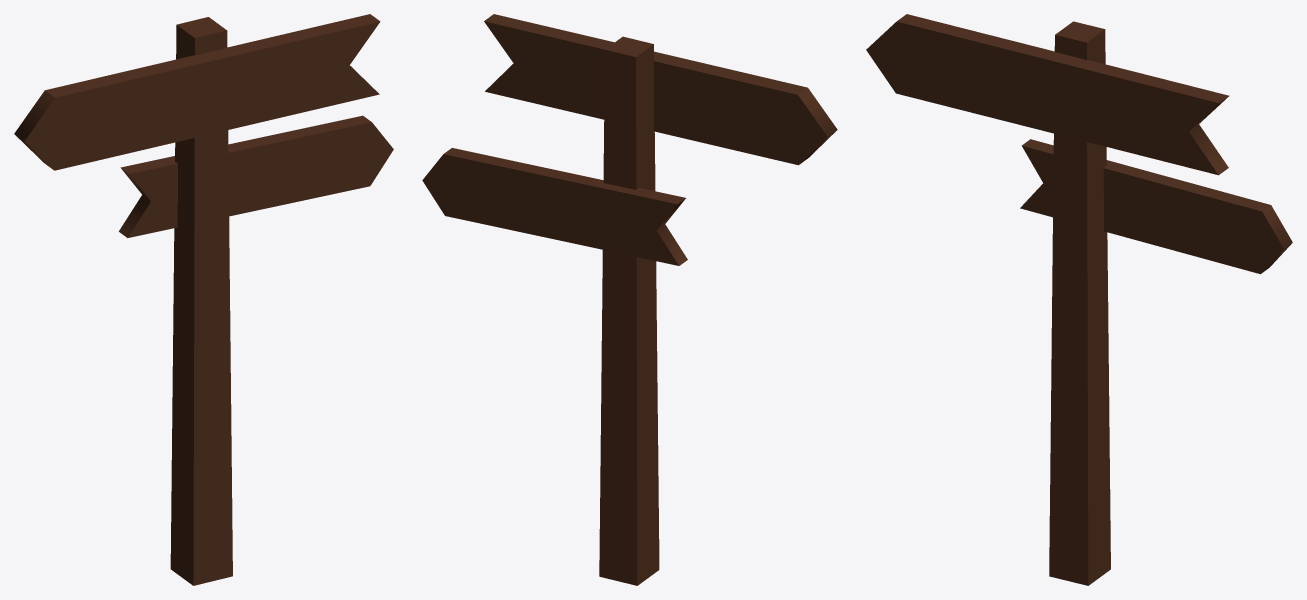
Rendered from Sign 2.fbx.
The picture shows the model from 3 angles, left to right: view 1: azimuth 30°, elevation 25°; view 2: azimuth 150°, elevation 25°; view 3: azimuth 330°, elevation 25°; orthographic projection. The views are drawn at different scales.
Visible parts, largest first — view 1: polySurface685; view 2: polySurface685; view 3: polySurface685.
Part boxes in pixels (x1,y1,x2,y2): polySurface685: (14, 14, 393, 585); polySurface685: (422, 14, 837, 585); polySurface685: (866, 14, 1292, 585).
Bounding box in the file's own units: 10.01 × 13.19 × 1.53.
